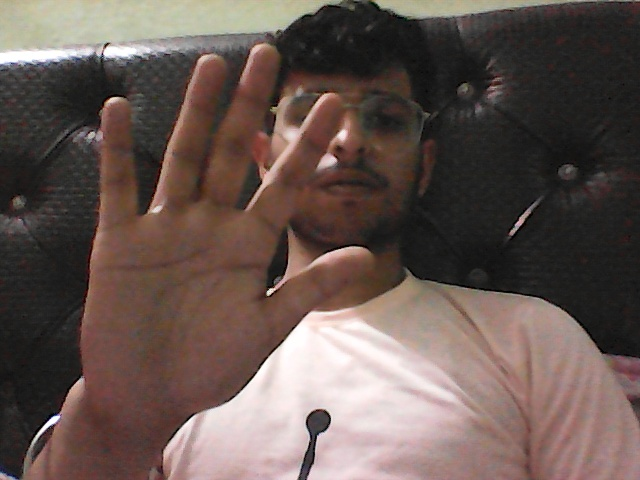hello: (48, 25, 384, 473)
